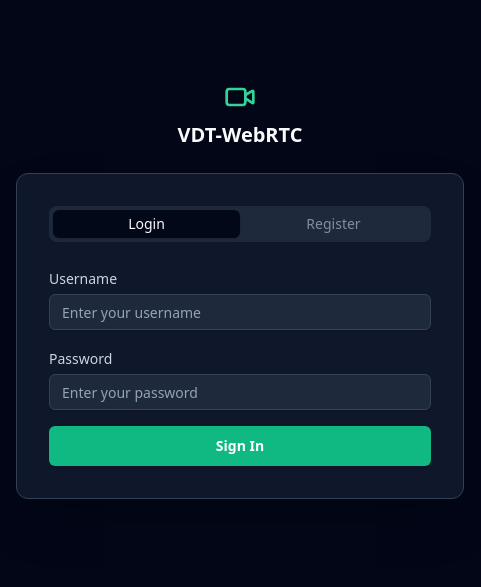
Test: AuthPage › UI-01: 409 on register tab shows "Username already taken. Please choose another."
// Switch to Register tab
Click the tab "Register" at (334, 224), box left=240, top=210, right=427, bottom=238
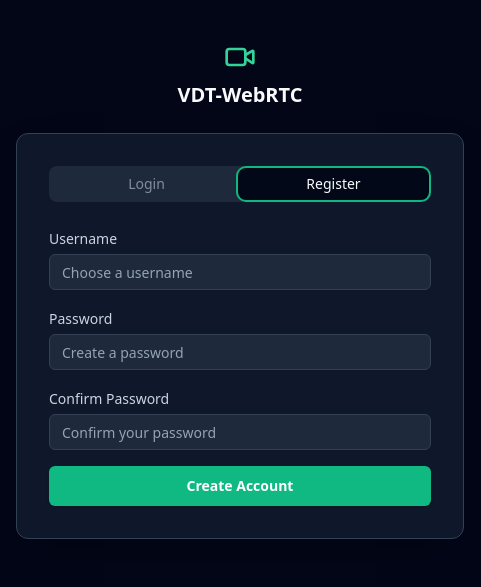
Type "testuser" into the field with placeholder "Choose a username" at (240, 272), box left=49, top=254, right=431, bottom=290
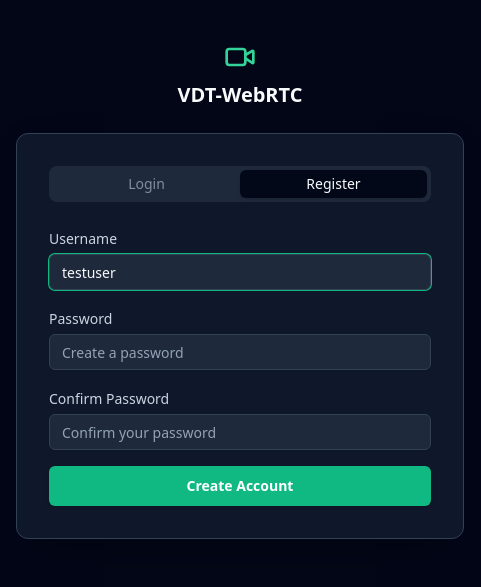
Type "password123" into the password field with placeholder "Create a password" at (240, 352), box left=49, top=334, right=431, bottom=370
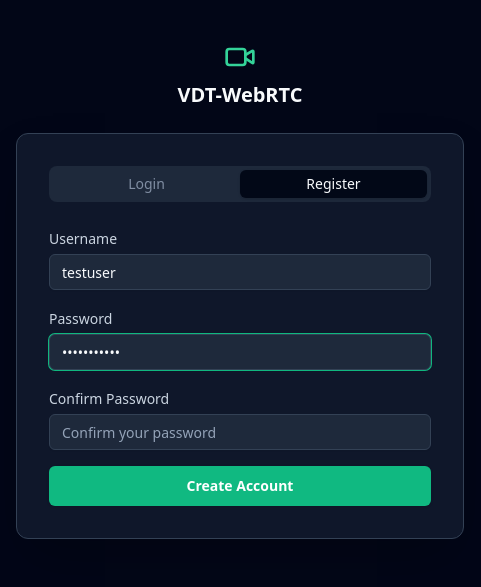
Type "password123" into the password field with placeholder "Confirm your password" at (240, 432), box left=49, top=414, right=431, bottom=450
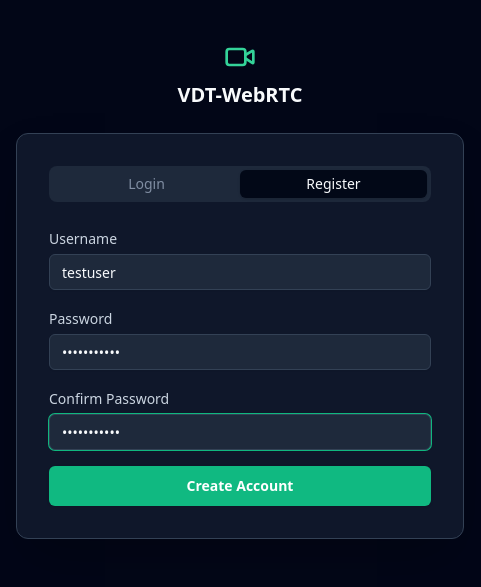
Click the button "Create Account" at (240, 486), box left=49, top=466, right=431, bottom=506
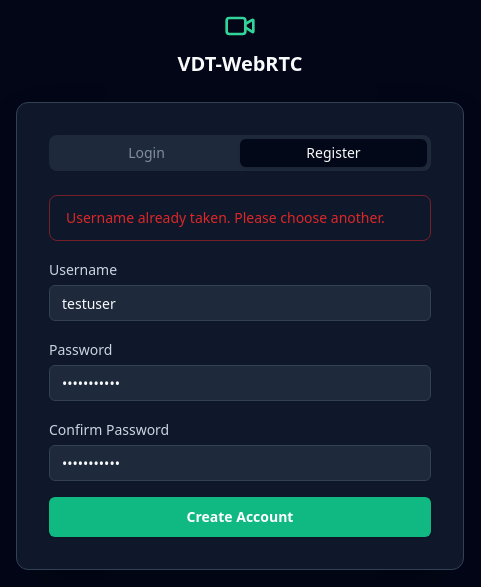
Expected: the message "Username already taken. Please choose another." is shown, left=49, top=195, right=431, bottom=241
Expected: the message reads "Username already taken. Please choose another.", left=66, top=208, right=385, bottom=227
